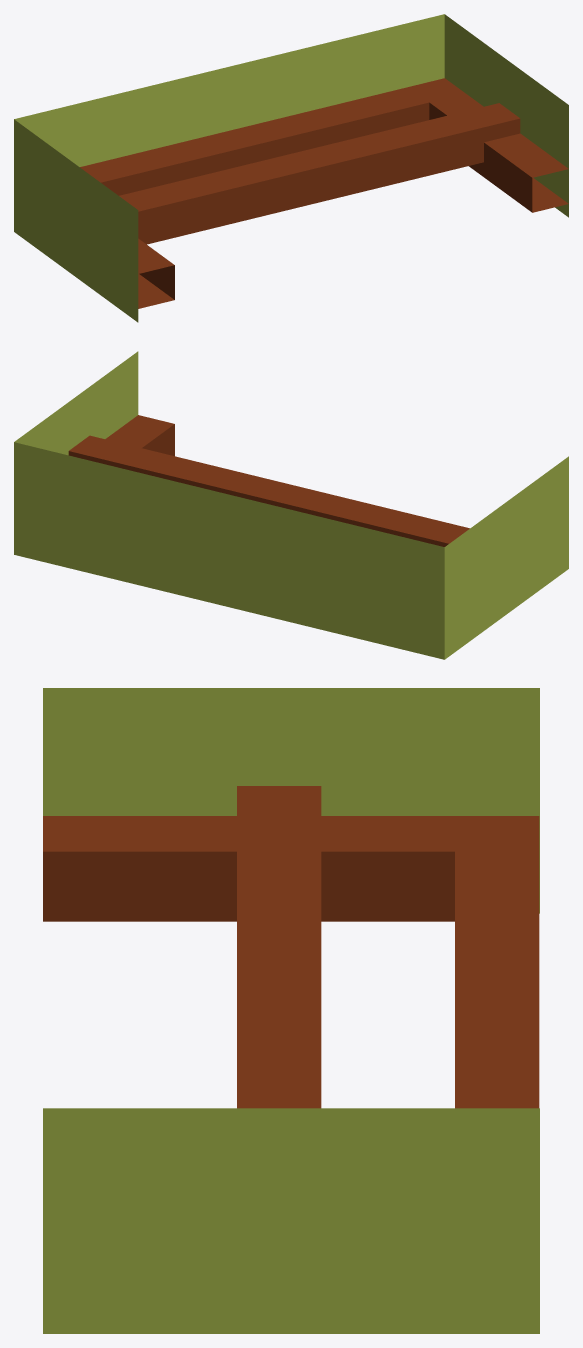
The model's file is ModuleSc_A_Top1.FBX.
3 views of the same model, one above another, from view 1: azimuth 30°, elevation 25°; view 2: azimuth 150°, elevation 25°; view 3: azimuth 270°, elevation 25° (orthographic). The views are drawn at different scales.
Visible parts, largest first — view 1: ModuleSc_A_wall_top_01, ModuleSc_A_wall_half_top_03, ModuleSc_A_frameL_top_05, ModuleSc_A_frame_top_03, ModuleSc_A_frame_top_04, ModuleSc_A_wall_half_top_02, ModuleSc_A_frameL_top_06, ModuleSc_A_frameL_top_04; view 2: ModuleSc_A_wall_top_01, ModuleSc_A_wall_half_top_03, ModuleSc_A_wall_half_top_02, ModuleSc_A_frame_top_03, ModuleSc_A_frame_top_04, ModuleSc_A_frameL_top_06; view 3: ModuleSc_A_wall_half_top_02, ModuleSc_A_wall_half_top_03, ModuleSc_A_frameL_top_04, ModuleSc_A_frameL_top_05, ModuleSc_A_frame_top_04, ModuleSc_A_frame_top_03.
Boxes of the visible parts, box(x1,y1,x2,y2) form: ModuleSc_A_wall_top_01: box(14, 14, 444, 166); ModuleSc_A_wall_half_top_03: box(14, 119, 138, 322); ModuleSc_A_frameL_top_05: box(80, 78, 465, 195); ModuleSc_A_frame_top_03: box(284, 103, 520, 205); ModuleSc_A_frame_top_04: box(119, 155, 304, 244); ModuleSc_A_wall_half_top_02: box(444, 14, 568, 217); ModuleSc_A_frameL_top_06: box(429, 93, 568, 212); ModuleSc_A_frameL_top_04: box(138, 238, 174, 308); ModuleSc_A_wall_top_01: box(14, 442, 444, 659); ModuleSc_A_wall_half_top_03: box(444, 456, 568, 659); ModuleSc_A_wall_half_top_02: box(14, 351, 138, 455); ModuleSc_A_frame_top_03: box(68, 435, 304, 507); ModuleSc_A_frame_top_04: box(284, 488, 469, 546); ModuleSc_A_frameL_top_06: box(105, 415, 174, 456); ModuleSc_A_wall_half_top_02: box(43, 1108, 539, 1333); ModuleSc_A_wall_half_top_03: box(43, 688, 539, 913); ModuleSc_A_frameL_top_04: box(43, 816, 454, 921); ModuleSc_A_frameL_top_05: box(455, 816, 539, 1108); ModuleSc_A_frame_top_04: box(237, 786, 321, 995); ModuleSc_A_frame_top_03: box(237, 996, 321, 1108).
Bounding box in the file's own units: 78.74 × 19.69 × 39.37.
